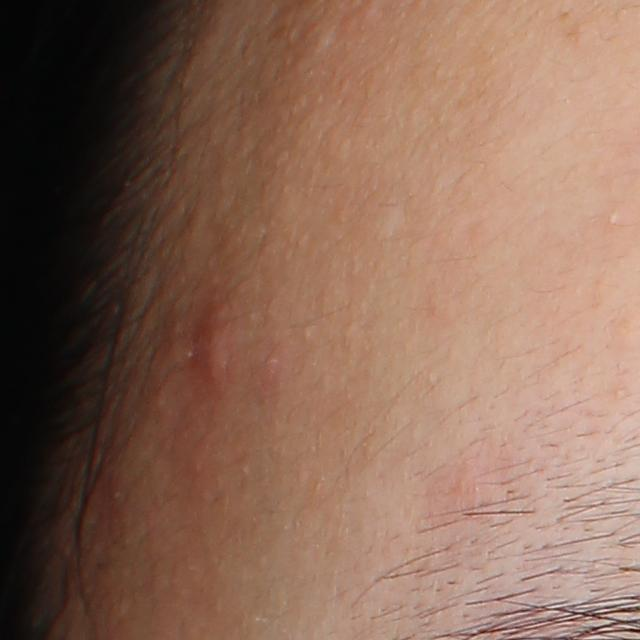comedo: (604, 211, 621, 228)
papule: (193, 308, 231, 400)
